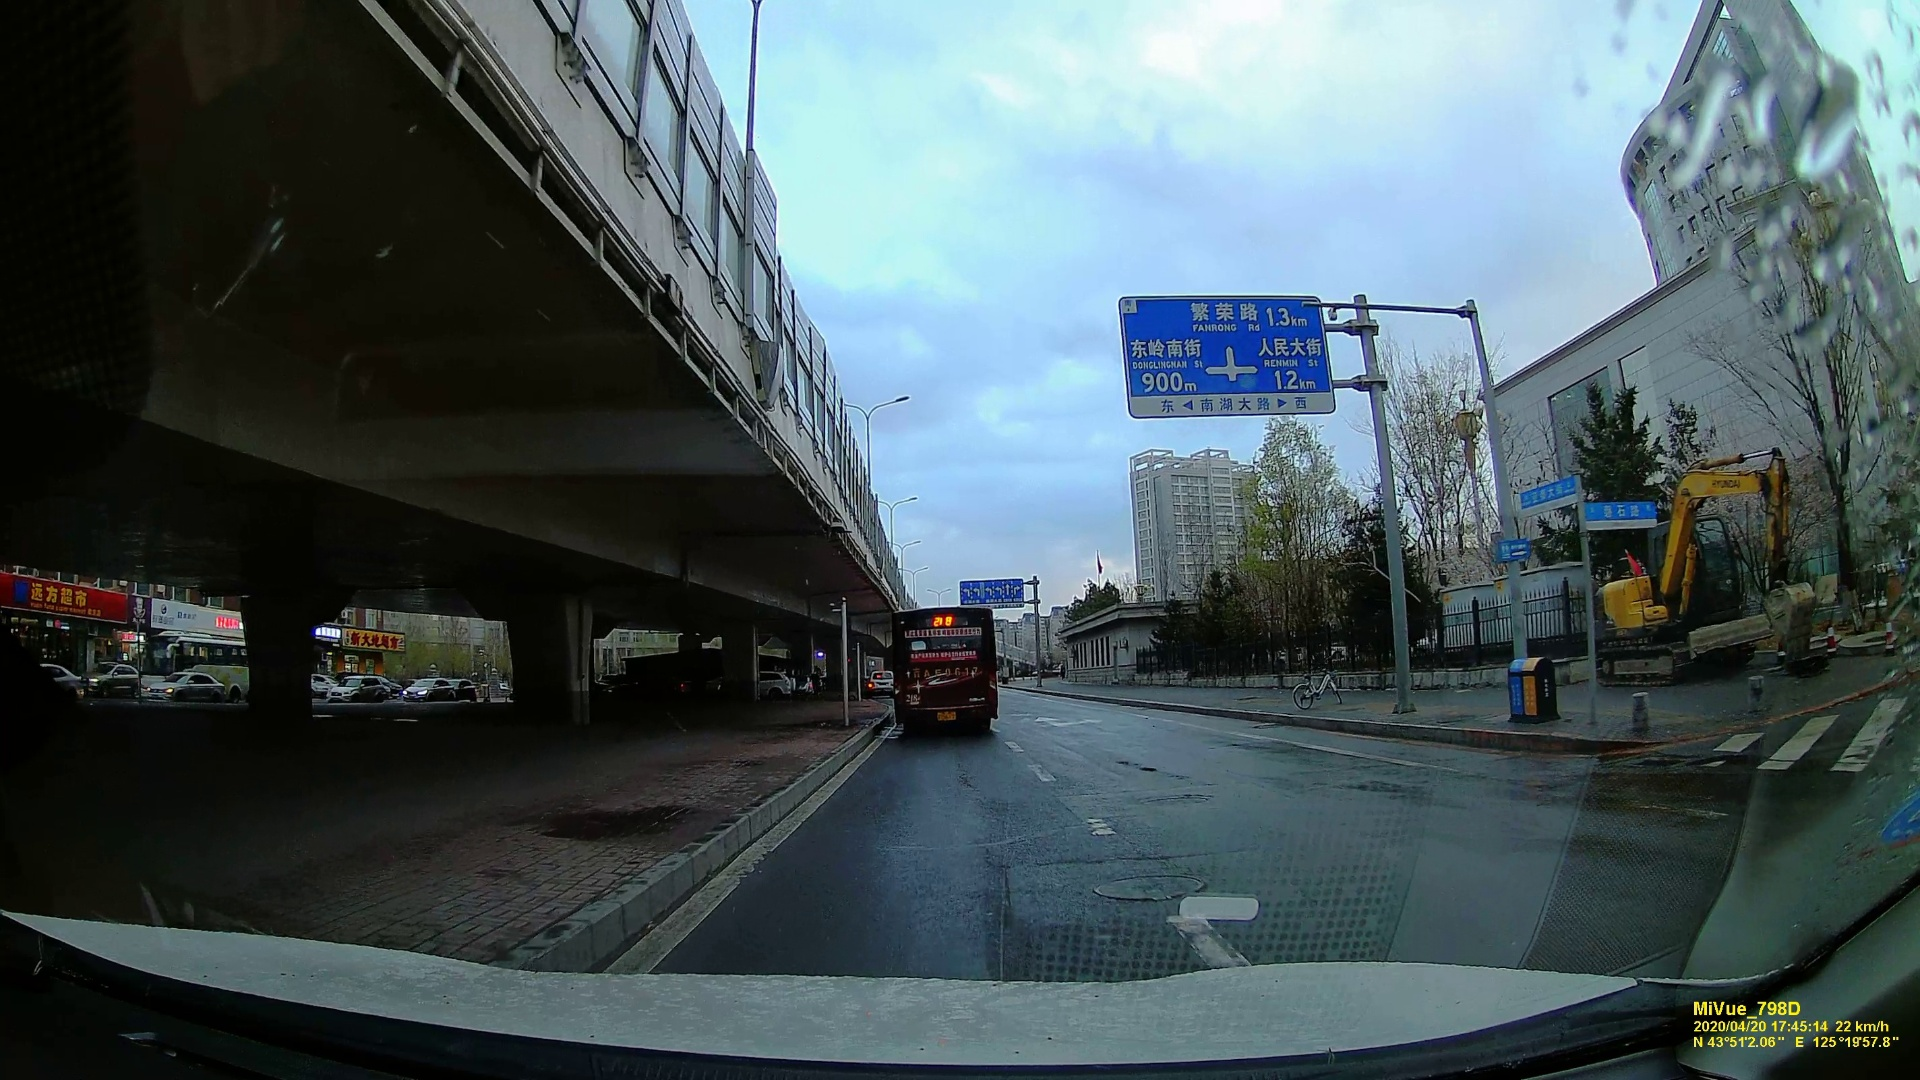bus: (887, 603, 1004, 738)
traffic_sign: (1120, 295, 1331, 414), (1484, 480, 1658, 584), (961, 578, 1019, 609)
vehicle: (404, 678, 455, 702), (866, 670, 891, 694)
